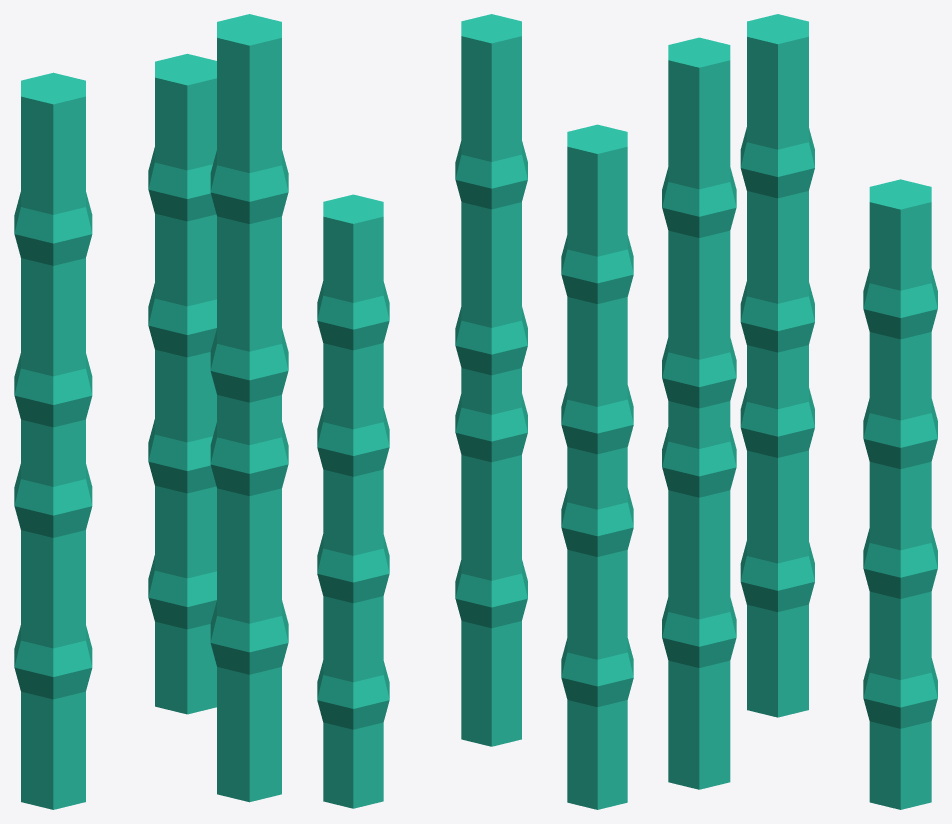
The model's file is crops_bambooStageB.obj.
The picture shows the model from 3 angles, left to right: view 1: azimuth 30°, elevation 25°; view 2: azimuth 150°, elevation 25°; view 3: azimuth 270°, elevation 25°; orthographic projection. The views are drawn at different scales.
Visible parts, largest first — view 1: crops_bambooStageB; view 2: crops_bambooStageB; view 3: crops_bambooStageB.
Part boxes in pixels (x1,y1,x2,y2): crops_bambooStageB: (14, 14, 288, 809); crops_bambooStageB: (317, 14, 633, 809); crops_bambooStageB: (662, 14, 937, 809).
Bounding box in the file's own units: 0.3401 × 0.89 × 0.308.
